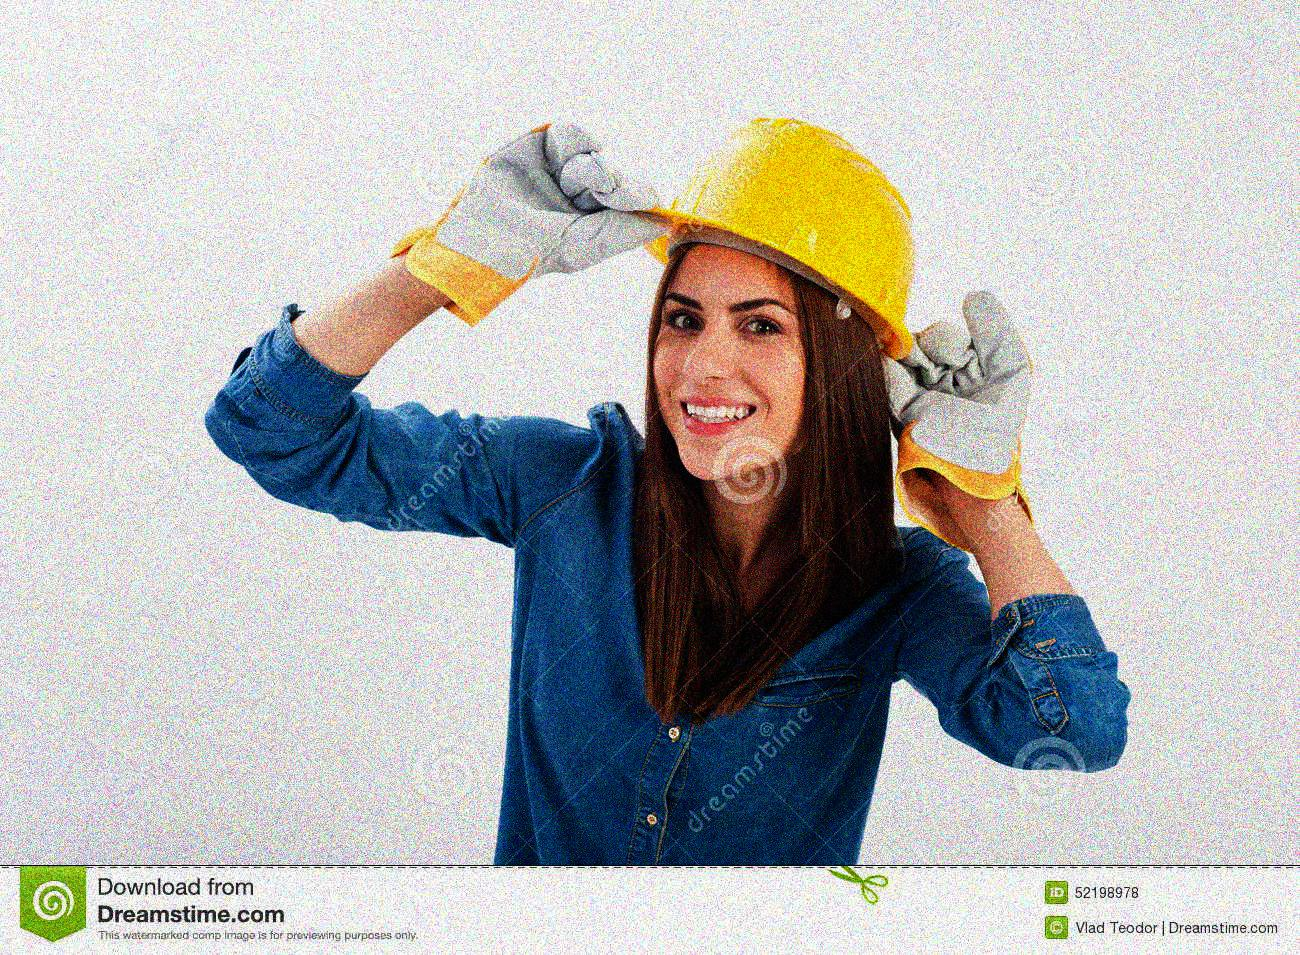helmet: (609, 121, 920, 482)
